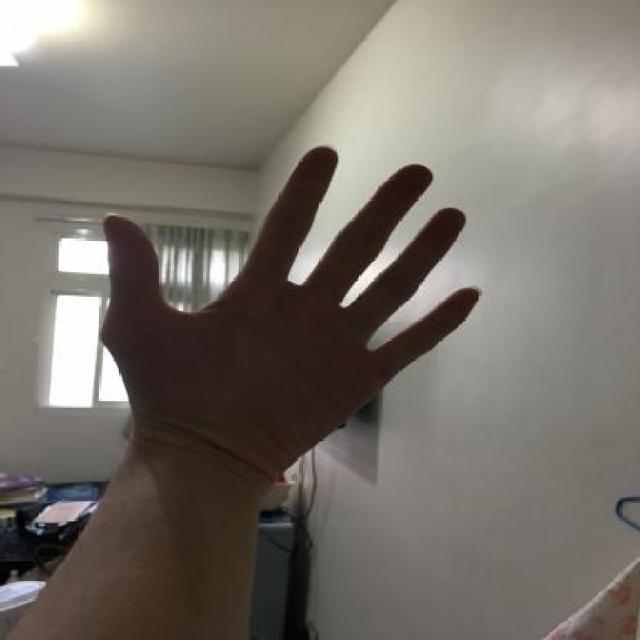bare_hand: (88, 133, 496, 512)
